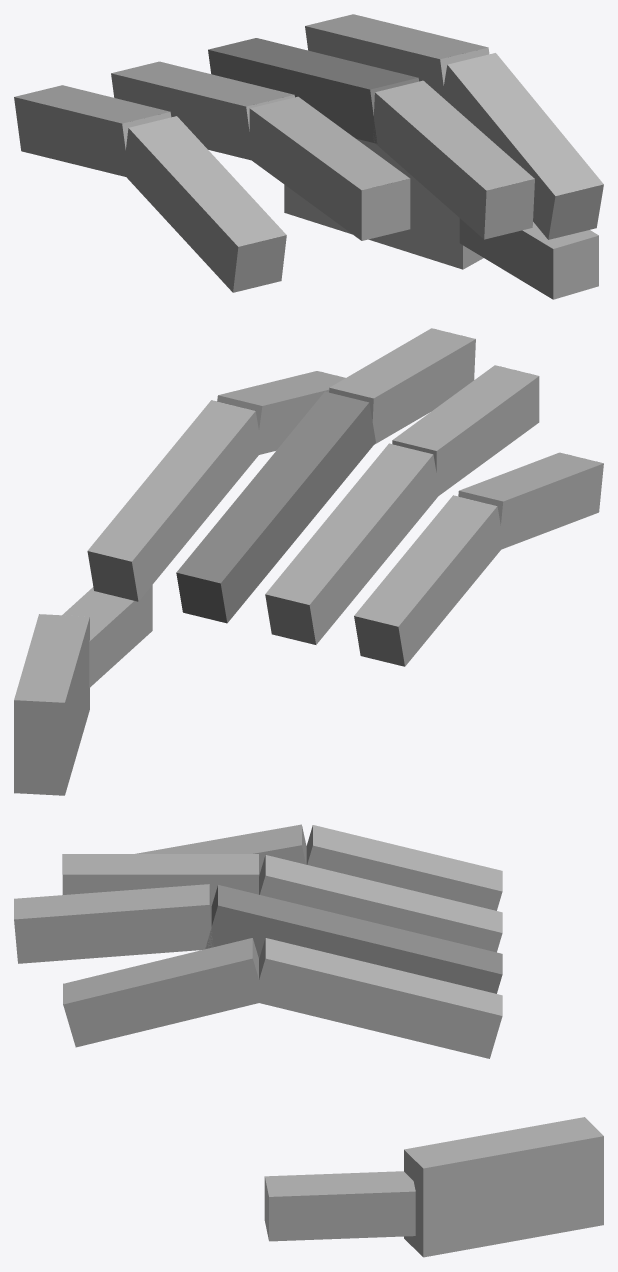
The model's file is powerfist_digits_normal.obj.
3 renders of one model, top to bottom at view 1: azimuth 30°, elevation 25°; view 2: azimuth 150°, elevation 25°; view 3: azimuth 270°, elevation 25°, orthographic. The views are drawn at different scales.
Parts seen in each view (by area): view 1: pinky2, middlefinger2, ringfinger2, index2, middlefinger1, pinky1, ringfinger1, index1, thumb2, thumb1; view 2: middlefinger1, ringfinger1, index1, pinky1, thumb1, ringfinger2, middlefinger2, pinky2, thumb2, index2; view 3: thumb1, index1, middlefinger2, middlefinger1, index2, ringfinger1, thumb2, pinky1, ringfinger2, pinky2.
Boxes of the visible parts, left/top/right/bottom form: pinky2: left=123, top=116, right=286, bottom=292; middlefinger2: left=373, top=80, right=534, bottom=239; ringfinger2: left=249, top=96, right=410, bottom=240; index2: left=443, top=53, right=603, bottom=239; middlefinger1: left=208, top=38, right=418, bottom=143; pinky1: left=14, top=85, right=171, bottom=177; ringfinger1: left=111, top=61, right=294, bottom=160; index1: left=305, top=14, right=489, bottom=99; thumb2: left=459, top=218, right=598, bottom=299; thumb1: left=284, top=138, right=483, bottom=269; middlefinger1: left=176, top=391, right=375, bottom=623; ringfinger1: left=265, top=443, right=437, bottom=644; index1: left=87, top=400, right=261, bottom=601; pinky1: left=354, top=495, right=503, bottom=666; thumb1: left=14, top=614, right=89, bottom=795; ringfinger2: left=392, top=365, right=539, bottom=497; middlefinger2: left=329, top=328, right=475, bottom=444; pinky2: left=458, top=452, right=603, bottom=550; thumb2: left=62, top=585, right=152, bottom=687; index2: left=217, top=371, right=345, bottom=455; thumb1: left=404, top=1117, right=603, bottom=1257; index1: left=253, top=938, right=502, bottom=1058; middlefinger2: left=14, top=884, right=213, bottom=963; middlefinger1: left=205, top=885, right=502, bottom=993; index2: left=63, top=938, right=264, bottom=1047; ringfinger1: left=259, top=855, right=502, bottom=952; thumb2: left=264, top=1171, right=415, bottom=1241; pinky1: left=306, top=825, right=502, bottom=910; ringfinger2: left=62, top=854, right=258, bottom=905; pinky2: left=135, top=824, right=306, bottom=875.
Bounding box in the file's own units: 0.5827 × 0.3782 × 0.7512.
